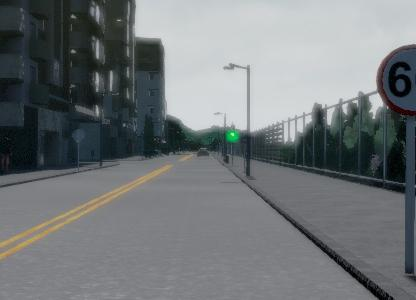Speed_60: (375, 41, 416, 116)
